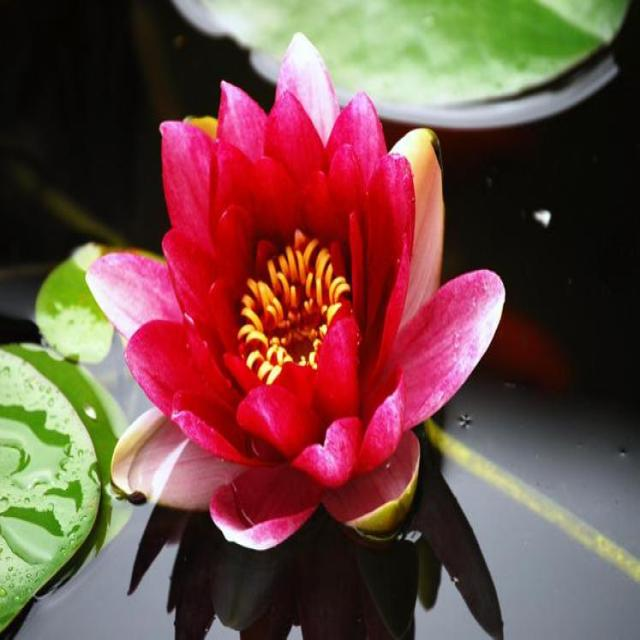rose: (71, 27, 604, 570)
